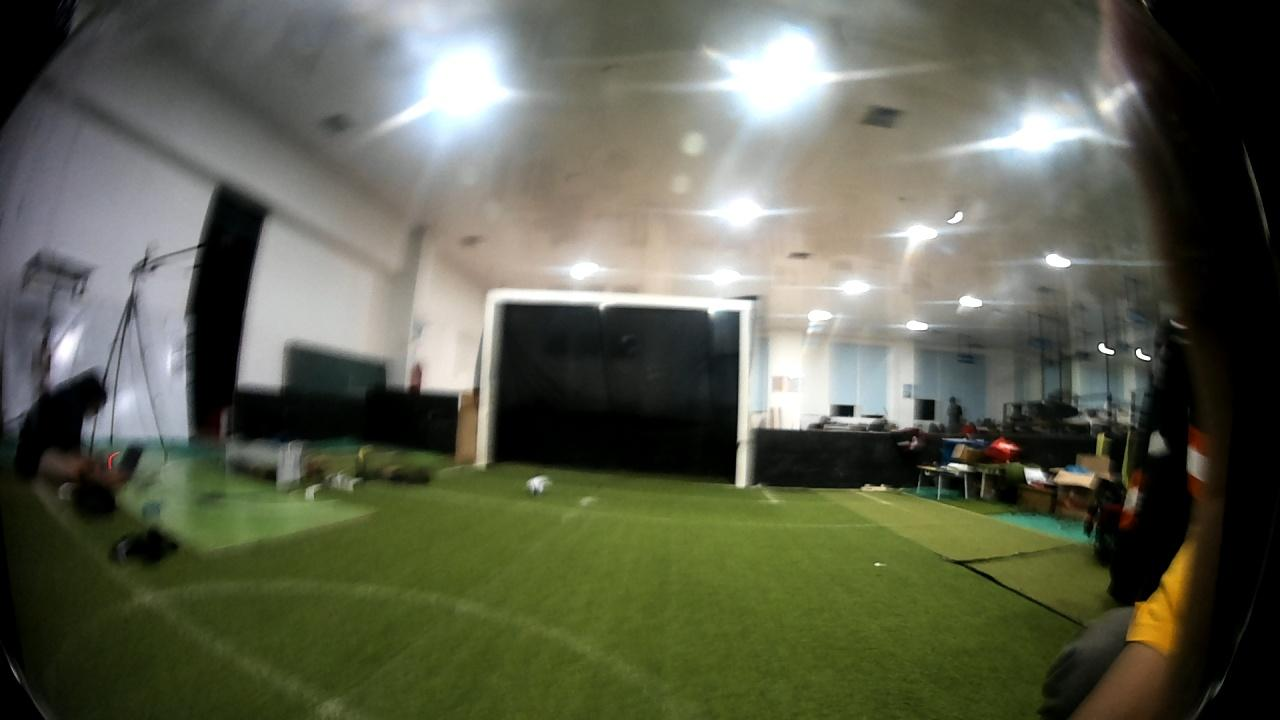ball: (521, 470, 559, 498)
